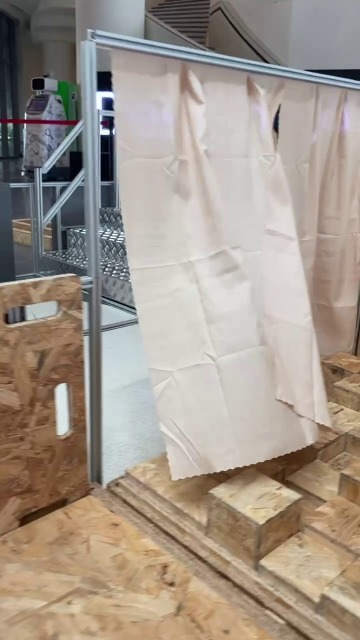curtain: (90, 32, 342, 480)
